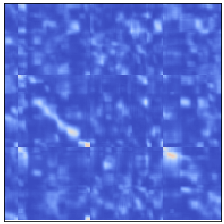action_path: (14, 75, 89, 149)
